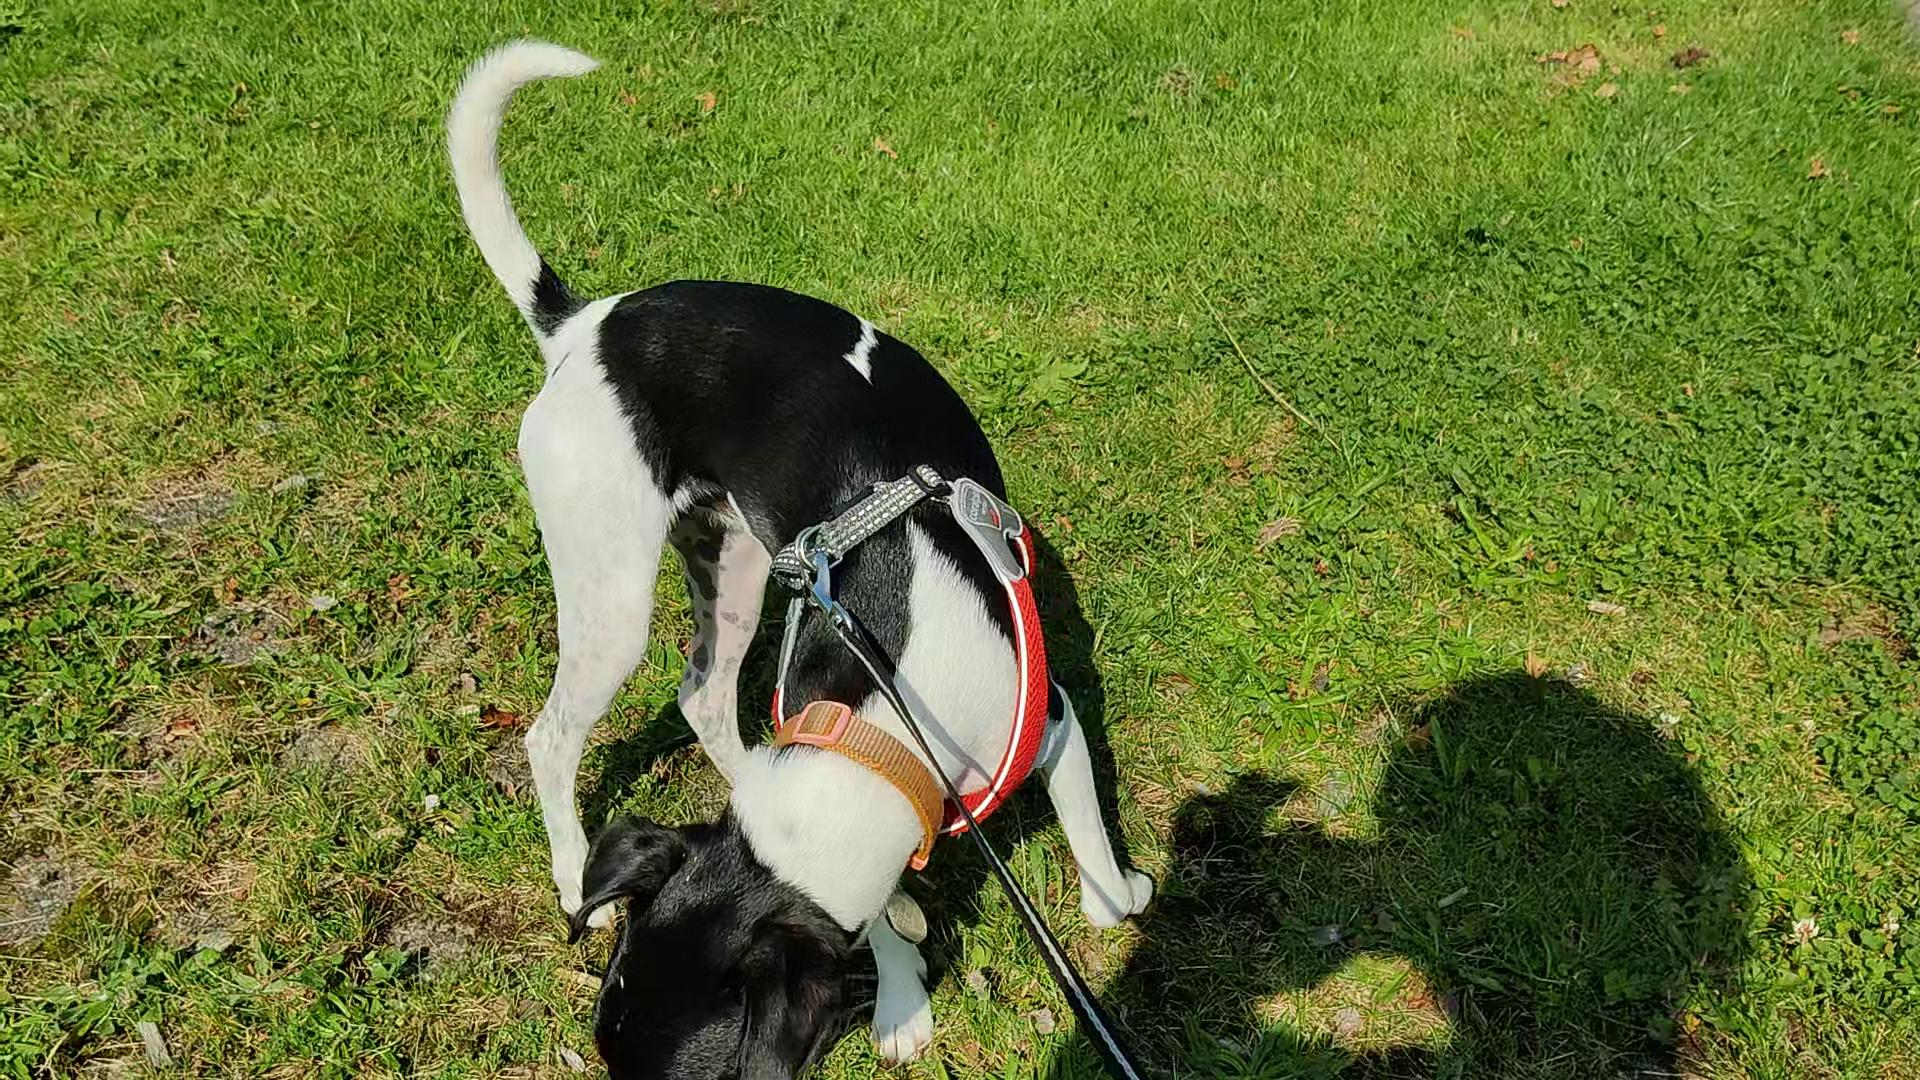Dog: (438, 32, 1162, 1079)
